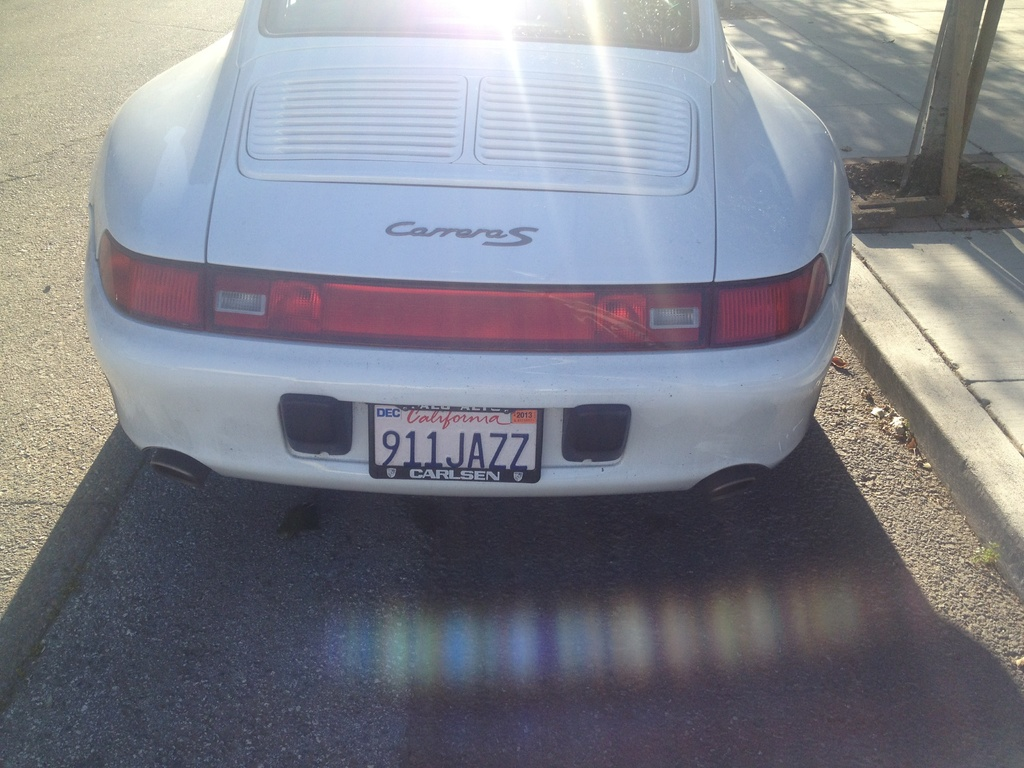license plate: (367, 397, 542, 482)
